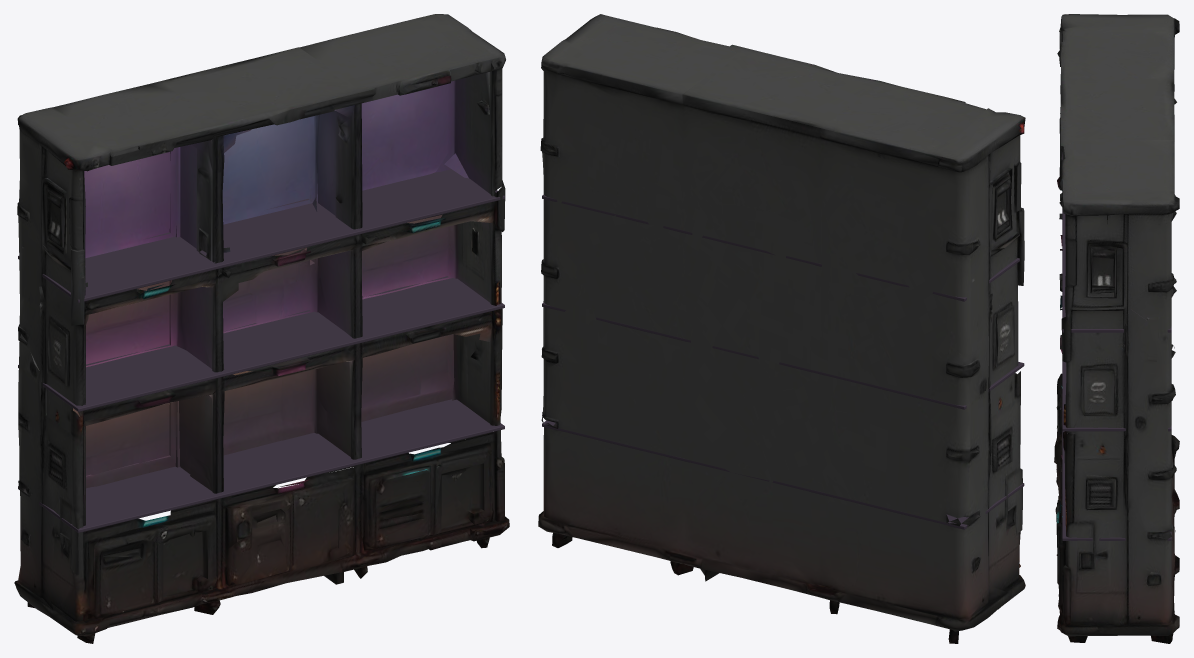
Rendered from 06_showcase_zone.glb.
3 renders of one model, left to right at view 1: azimuth 30°, elevation 25°; view 2: azimuth 150°, elevation 25°; view 3: azimuth 270°, elevation 25°, orthographic. The views are drawn at different scales.
Visible parts, largest first — view 1: SHOWCASE_EMPTY_CABINET, LOCAL_showcase_solid_shelf.001, LOCAL_showcase_solid_shelf.002, LOCAL_showcase_solid_shelf; view 2: SHOWCASE_EMPTY_CABINET, LOCAL_showcase_solid_shelf, LOCAL_showcase_solid_shelf.001, LOCAL_showcase_solid_shelf.002; view 3: SHOWCASE_EMPTY_CABINET, LOCAL_showcase_solid_shelf.002, LOCAL_showcase_solid_shelf, LOCAL_showcase_solid_shelf.001.
Boxes of the visible parts, x1,y1,x2,y2 form: SHOWCASE_EMPTY_CABINET: (14,14,509,643); LOCAL_showcase_solid_shelf.001: (18,276,504,411); LOCAL_showcase_solid_shelf.002: (18,169,504,302); LOCAL_showcase_solid_shelf: (18,399,504,532); SHOWCASE_EMPTY_CABINET: (538,14,1025,643); LOCAL_showcase_solid_shelf: (542,420,1024,529); LOCAL_showcase_solid_shelf.001: (542,302,1024,409); LOCAL_showcase_solid_shelf.002: (542,194,1019,301); SHOWCASE_EMPTY_CABINET: (1054,14,1179,643); LOCAL_showcase_solid_shelf.002: (1062,152,1171,332); LOCAL_showcase_solid_shelf: (1062,431,1171,540); LOCAL_showcase_solid_shelf.001: (1062,361,1171,431).
Size of the model in its own units: 2.2 by 2.35 by 0.6.
Materials: 2 (1 with a texture image).
